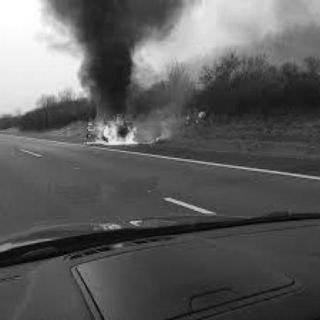Fire: (79, 109, 149, 147)
Smoke: (44, 1, 180, 117)
